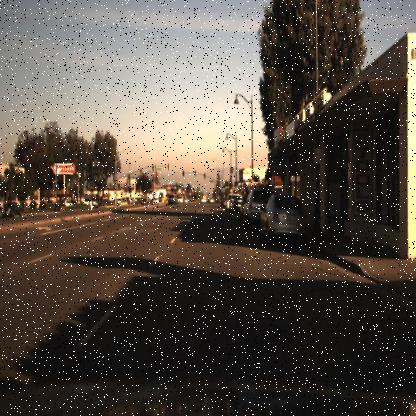car: (258, 191, 306, 240), (242, 184, 271, 234), (3, 200, 23, 221)
